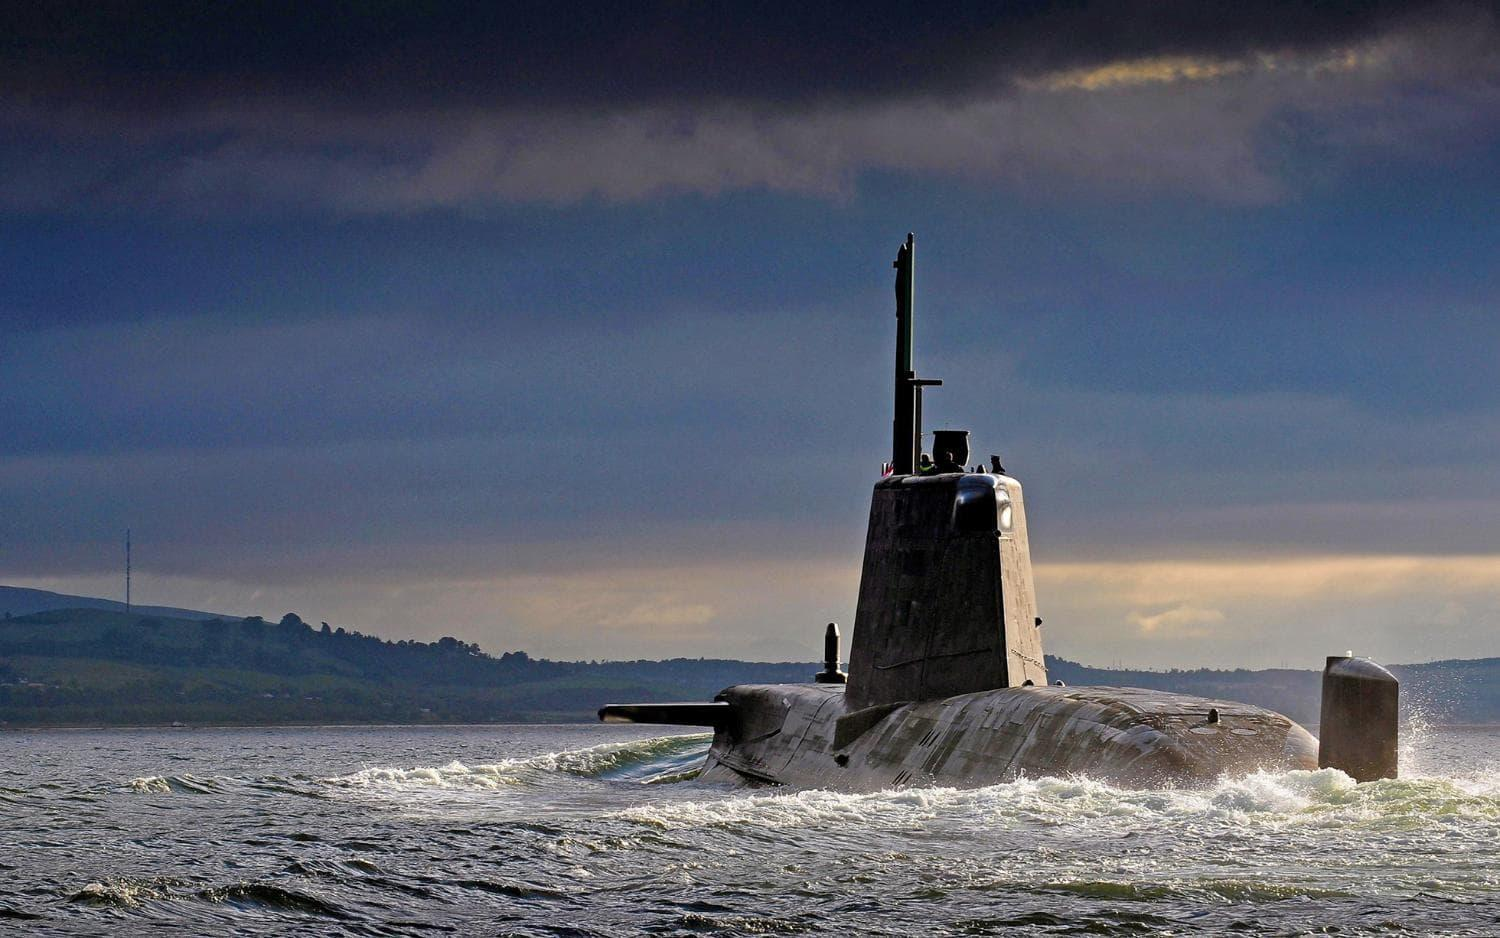Submarine: (503, 177, 1500, 938)
